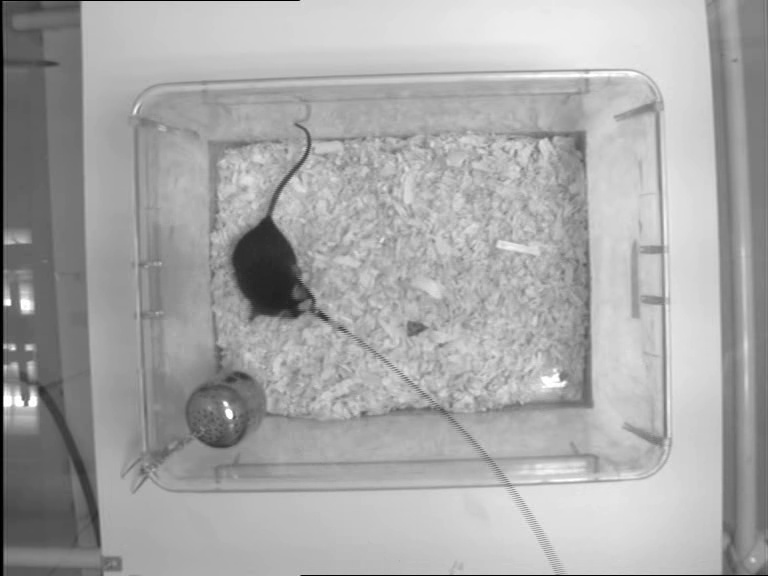mice: (231, 118, 320, 322)
